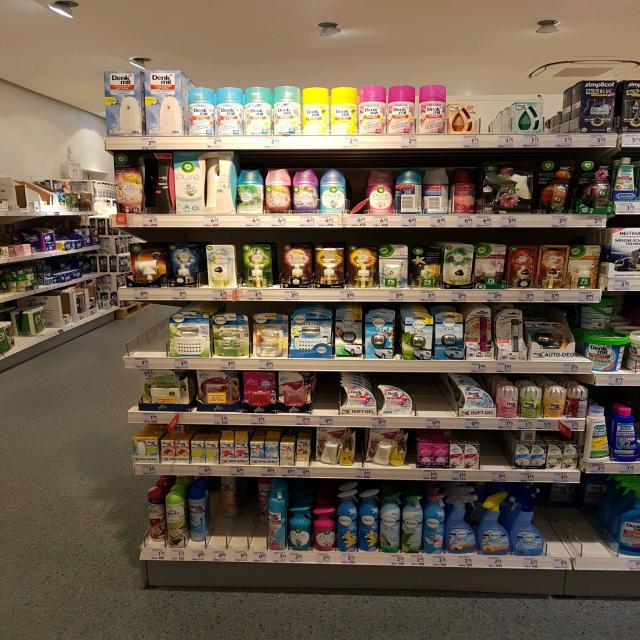void: (584, 479, 618, 569), (419, 376, 456, 430), (548, 70, 574, 146), (549, 513, 582, 571), (484, 83, 507, 146), (484, 435, 512, 481), (125, 303, 144, 369), (146, 306, 166, 366), (314, 373, 334, 426), (351, 156, 364, 226), (242, 492, 254, 562)
